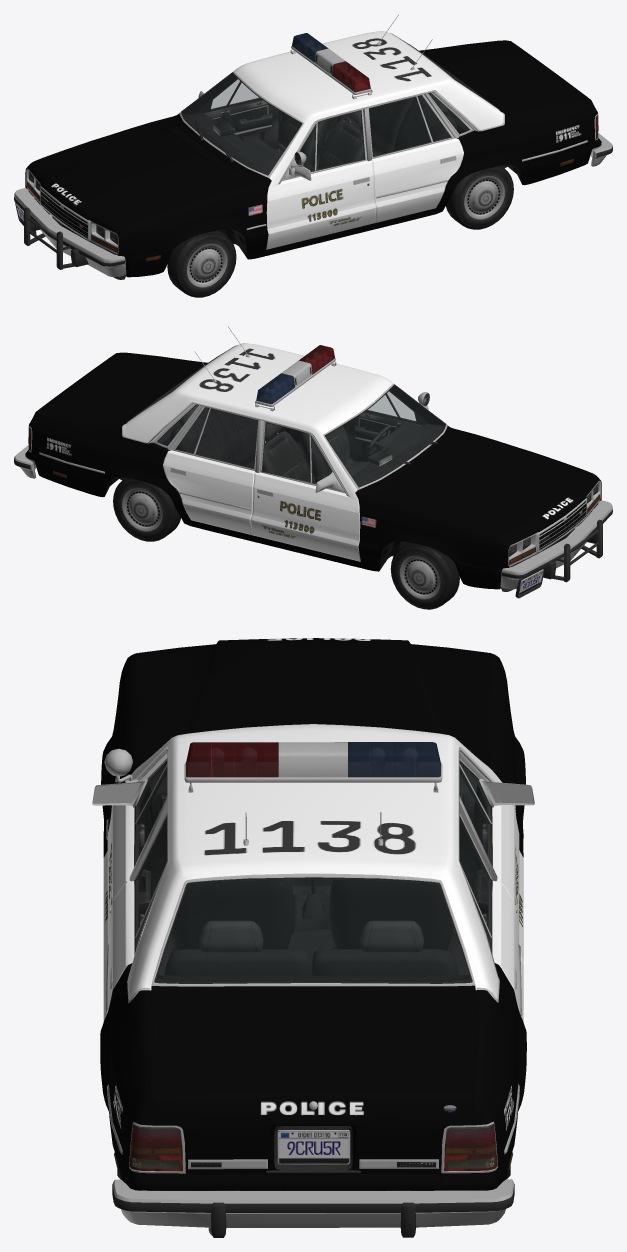
3 views of the same model, one above another, from view 1: azimuth 30°, elevation 25°; view 2: azimuth 150°, elevation 25°; view 3: azimuth 270°, elevation 25° (orthographic). The views are drawn at different scales.
Visible parts, largest first — view 1: body_Bodycolor_0, Hood_Bodycolor_0, Door_FL_Bodycolor_0, Seats_GEN4DR_INTERIOR_0, trunk_door_Bodycolor_0, Wiendshield_UCB_GLASS_CLEAN_0, Door_RL_Bodycolor_0, Wheel_FL_RIMSTOCK_05_0, Wheel_RL_RIMSTOCK_05_0, Door_Glass_RL_UCB_GLASS_CLEAN_0, Bodytrim_UCB_BOTTOM_0, bumper_front_UCB_BOTTOM_0 (+15 smaller); view 2: body_Bodycolor_0, Hood_Bodycolor_0, Door_FR_Bodycolor_0, Seats_GEN4DR_INTERIOR_0, trunk_door_Bodycolor_0, Wiendshield_UCB_GLASS_CLEAN_0, Door_RR_Bodycolor_0, Wheel_FR_RIMSTOCK_05_0, Wheel_RR_RIMSTOCK_05_0, Door_Glass_RR_UCB_GLASS_CLEAN_0, Bodytrim_UCB_BOTTOM_0, Door_Glass_FR_UCB_GLASS_CLEAN_0 (+15 smaller); view 3: body_Bodycolor_0, trunk_door_Bodycolor_0, Hood_Bodycolor_0, Windows_rear_UCB_GLASS_CLEAN_0, Seats_GEN4DR_INTERIOR_0, bumper_rear_UCB_BOTTOM_0, Bodytrim_UCB_BOTTOM_0, Lightbar_glass_Riverside88_lights_0, interior_GEN4DR_INTERIOR_0, Lightbar_UCB_BOTTOM_0, Door_FL_Bodycolor_0, Door_FR_Bodycolor_0 (+20 smaller).
Part boxes in pixels (box(x1,y1,x2,y2)): body_Bodycolor_0: box(25, 31, 601, 277); Hood_Bodycolor_0: box(28, 121, 244, 232); Door_FL_Bodycolor_0: box(266, 160, 376, 249); Seats_GEN4DR_INTERIOR_0: box(274, 93, 457, 170); trunk_door_Bodycolor_0: box(422, 41, 590, 112); Wiendshield_UCB_GLASS_CLEAN_0: box(182, 74, 300, 174); Door_RL_Bodycolor_0: box(372, 138, 463, 222); Wheel_FL_RIMSTOCK_05_0: box(167, 230, 236, 297); Wheel_RL_RIMSTOCK_05_0: box(446, 166, 513, 229); Door_Glass_RL_UCB_GLASS_CLEAN_0: box(369, 96, 450, 156); Bodytrim_UCB_BOTTOM_0: box(179, 33, 587, 184); bumper_front_UCB_BOTTOM_0: box(14, 188, 126, 277); body_Bodycolor_0: box(25, 343, 601, 589); Hood_Bodycolor_0: box(382, 434, 598, 544); Door_FR_Bodycolor_0: box(250, 472, 360, 561); Seats_GEN4DR_INTERIOR_0: box(170, 405, 369, 482); trunk_door_Bodycolor_0: box(36, 353, 204, 424); Wiendshield_UCB_GLASS_CLEAN_0: box(326, 386, 444, 486); Door_RR_Bodycolor_0: box(163, 450, 254, 534); Wheel_FR_RIMSTOCK_05_0: box(390, 542, 459, 609); Wheel_RR_RIMSTOCK_05_0: box(113, 478, 180, 541); Door_Glass_RR_UCB_GLASS_CLEAN_0: box(176, 408, 257, 468); Bodytrim_UCB_BOTTOM_0: box(39, 345, 447, 496); Door_Glass_FR_UCB_GLASS_CLEAN_0: box(262, 423, 331, 482); body_Bodycolor_0: box(100, 653, 526, 1190); trunk_door_Bodycolor_0: box(151, 990, 475, 1174); Hood_Bodycolor_0: box(137, 638, 489, 752); Windows_rear_UCB_GLASS_CLEAN_0: box(156, 879, 470, 982); Seats_GEN4DR_INTERIOR_0: box(164, 879, 458, 975); bumper_rear_UCB_BOTTOM_0: box(112, 1179, 514, 1237); Bodytrim_UCB_BOTTOM_0: box(107, 748, 519, 1171); Lightbar_glass_Riverside88_lights_0: box(186, 742, 440, 777); interior_GEN4DR_INTERIOR_0: box(138, 785, 488, 982); Lightbar_UCB_BOTTOM_0: box(184, 742, 442, 792); Door_FL_Bodycolor_0: box(103, 805, 134, 962); Door_FR_Bodycolor_0: box(492, 782, 523, 962).
Size of the model in its own units: 5.05 by 1.57 by 1.83.
Materials: 8 (8 with a texture image).
